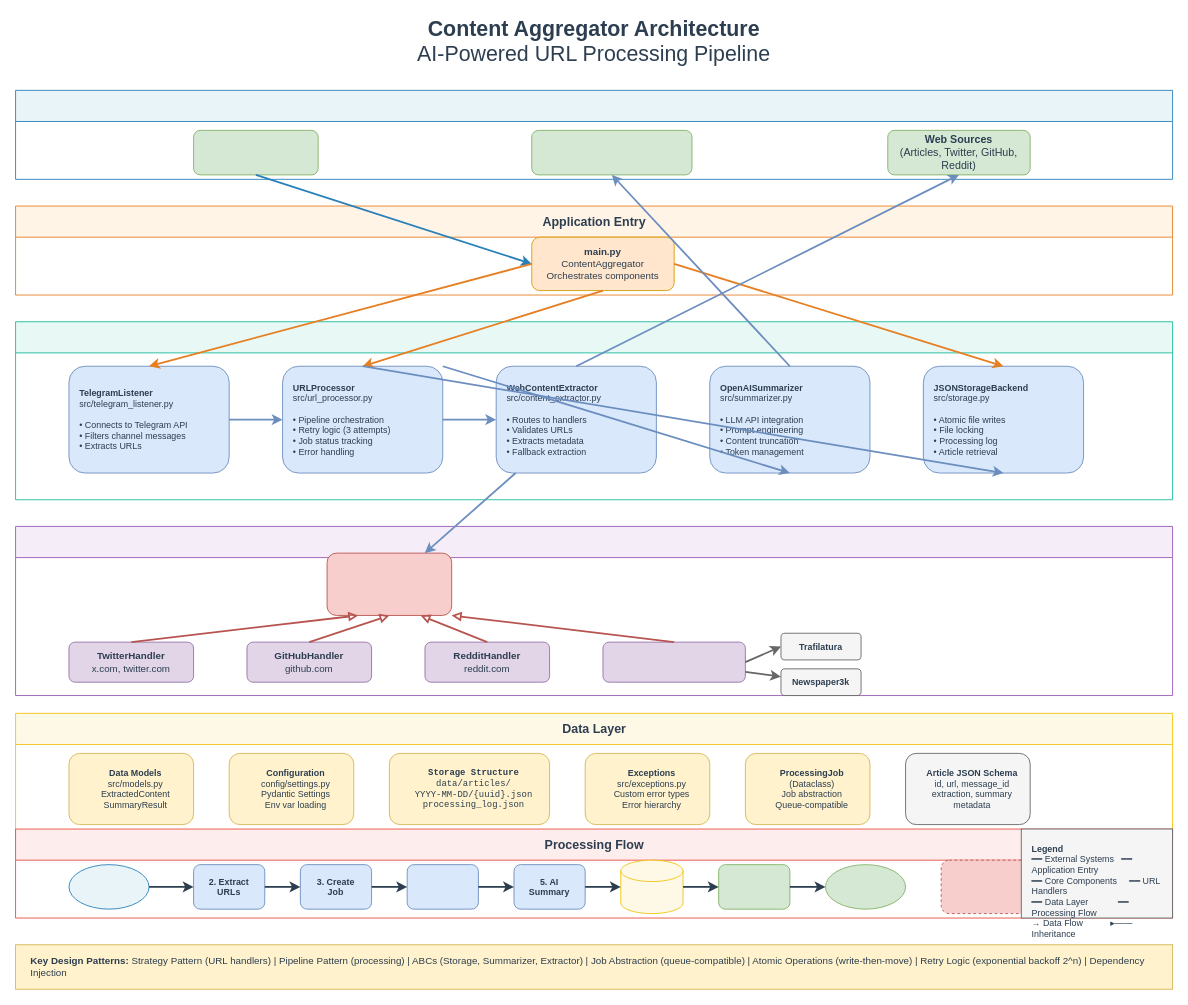
The diagram is 1188 pixels wide and 1005 high, and some of its shapes have lost their labels. Here are the shapes that lost their labels. From the top down, the box of each, then its label:
(193, 129, 318, 175): Telegram API (Bot API)
(15, 89, 1173, 179): External Systems
(531, 129, 692, 175): LLM API (OpenAI/OpenAI-compatible)
(15, 321, 1173, 500): Core Components
(326, 552, 452, 615): URLHandler (ABC) can_handle() handle()
(15, 526, 1173, 696): URL Handlers (Strategy Pattern)
(602, 641, 745, 682): FallbackHandler Generic extraction (trafilatura → newspaper3k)
(68, 864, 149, 909): 1. Telegram Message
(406, 864, 478, 909): 4. Fetch & Extract
(620, 859, 683, 914): 6. Store JSON
(718, 864, 790, 909): 7. Update Log
(825, 864, 906, 909): 8. Mark Complete
(940, 859, 1030, 914): Retry Logic 3 attempts Exponential backoff
